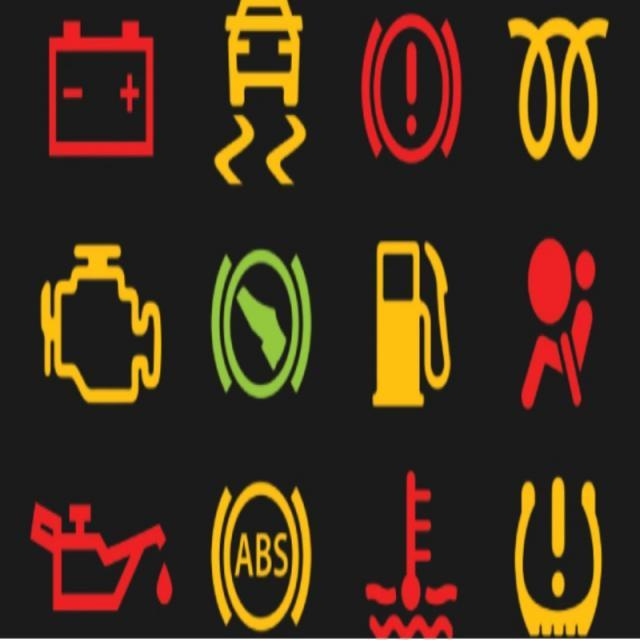ABS: (207, 476, 312, 634)
BatteryWarning: (46, 16, 156, 162)
EngineWarning: (35, 239, 162, 406)
HandBrakeWarning: (358, 8, 464, 165)
LowFuel: (368, 235, 454, 412)
OilPressureLow: (28, 496, 173, 614)
TemperatureWarning: (360, 463, 458, 637)
TractionControl: (210, 0, 308, 186)
TyrePressureLow: (508, 472, 602, 636)
